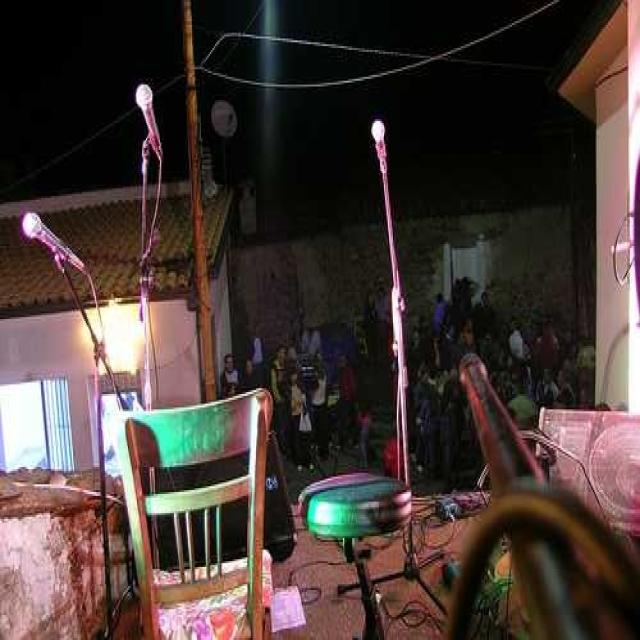microphone: (128, 79, 186, 166), (20, 209, 85, 274), (360, 114, 395, 184)
